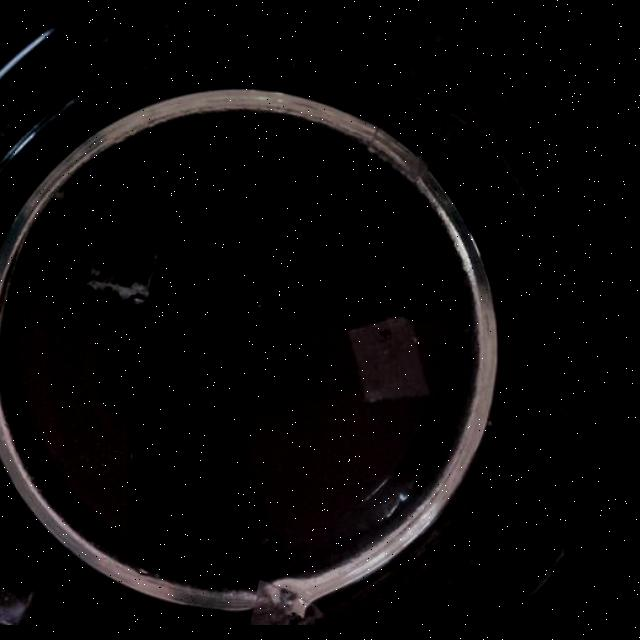Film: (370, 85, 458, 183), (344, 315, 431, 405), (84, 232, 160, 308), (238, 579, 324, 625), (0, 555, 38, 625)
